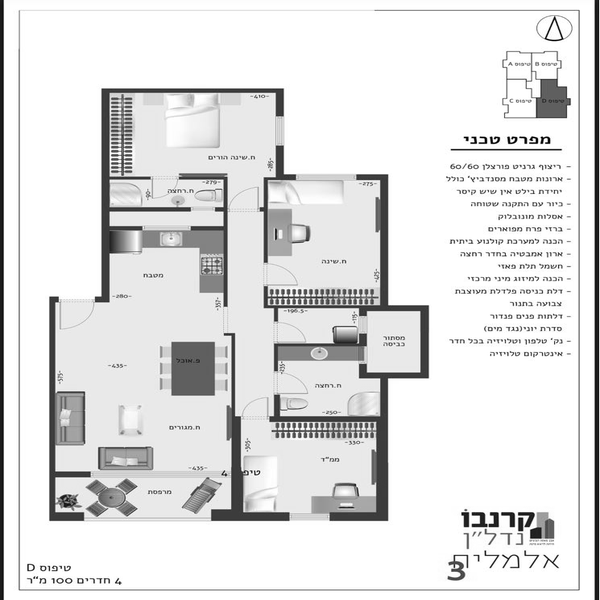door: (268, 314, 316, 349), (57, 295, 97, 335), (233, 394, 276, 428), (267, 369, 314, 400), (150, 173, 184, 206), (227, 188, 263, 215), (261, 260, 297, 285)
room: (48, 286, 245, 517), (96, 77, 290, 182), (90, 172, 234, 309), (255, 172, 389, 307), (227, 414, 392, 520), (260, 304, 392, 424), (356, 304, 437, 385)
wall: (225, 329, 248, 512), (93, 82, 112, 300), (101, 84, 287, 103), (47, 294, 58, 520), (377, 375, 389, 521), (258, 174, 277, 264), (218, 176, 231, 306), (257, 299, 363, 314), (380, 172, 391, 309), (269, 411, 377, 424), (107, 202, 193, 217), (417, 302, 432, 378), (211, 507, 288, 521), (272, 342, 363, 353), (359, 370, 423, 384), (326, 511, 390, 524), (357, 306, 427, 314), (186, 169, 226, 183), (187, 224, 225, 235)
window: (298, 168, 356, 187), (290, 505, 334, 528), (269, 114, 290, 152)
